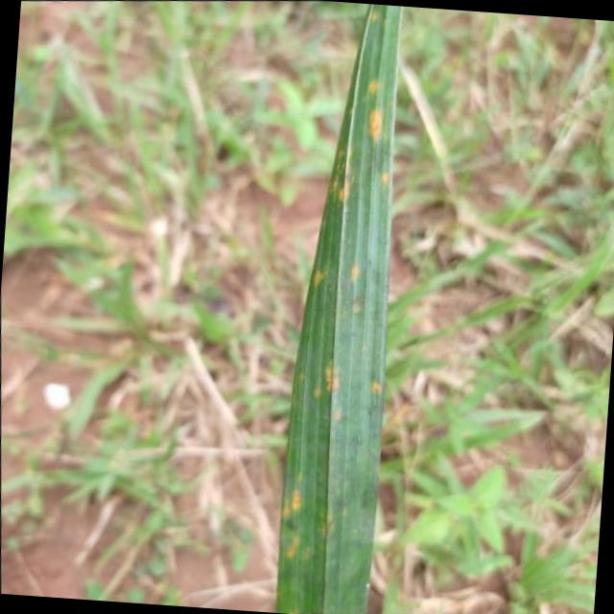Kalium: (276, 0, 399, 612)
